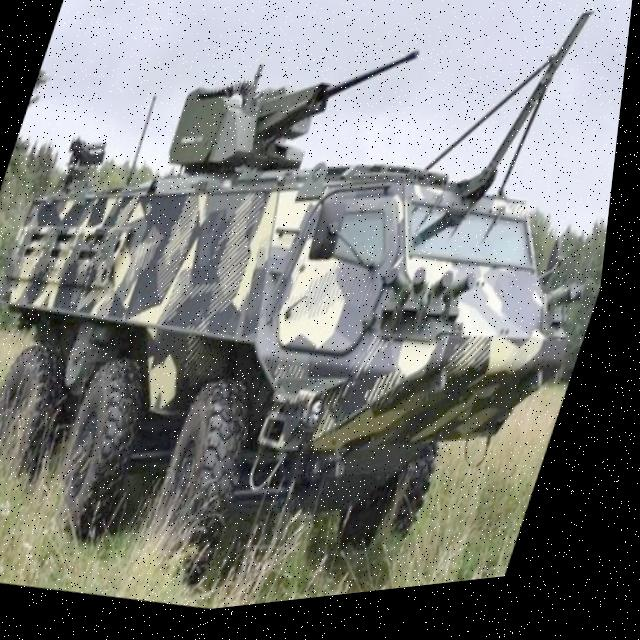MIL_APC: (0, 10, 634, 640)
